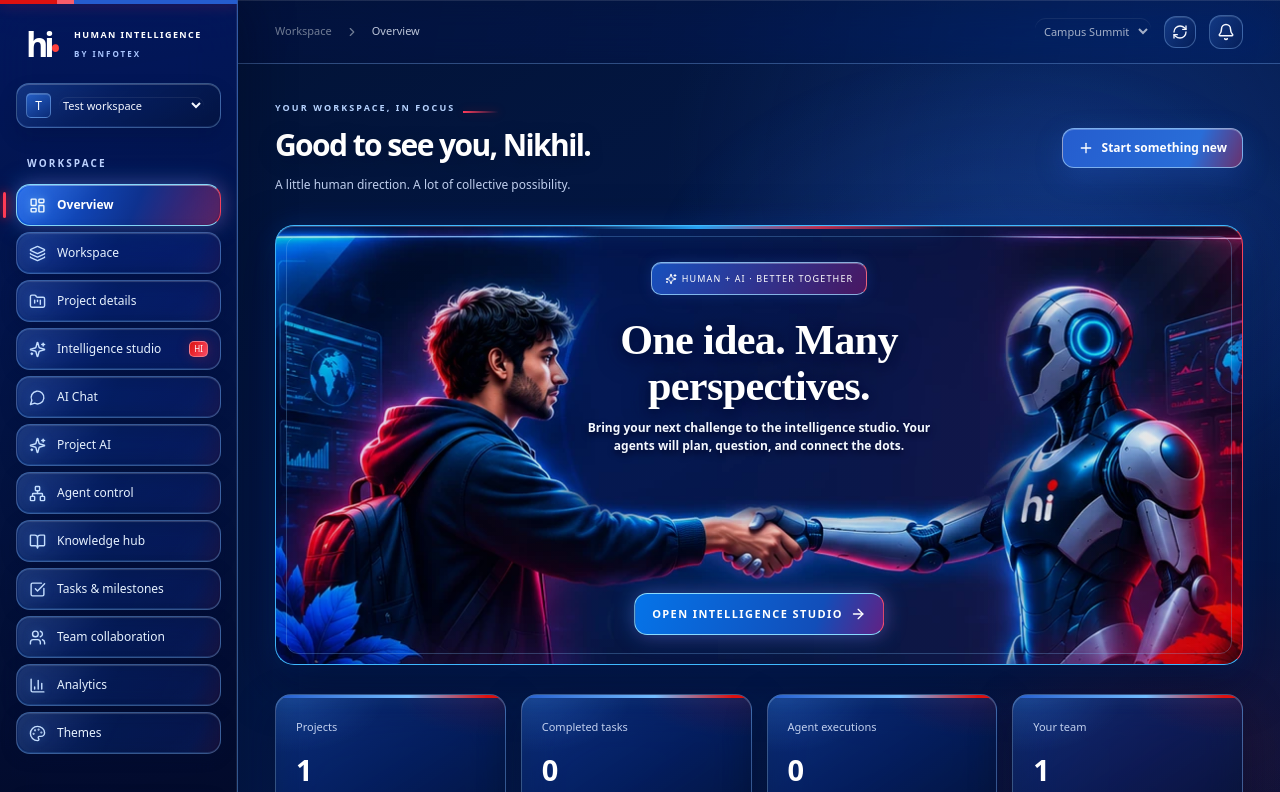
Test case: workspace UI with an explicit mocked API boundary › shows backend errors and keeps the request available for correction
Expected: the heading "Good to see you, Nikhil." is shown, [275, 126, 590, 162]
Expected: the dropdown named "Active project" shows "Campus Summit", [1035, 18, 1151, 45]
Step 1. Click the button "Intelligence studio HI" → (118, 349), box [16, 328, 221, 370]
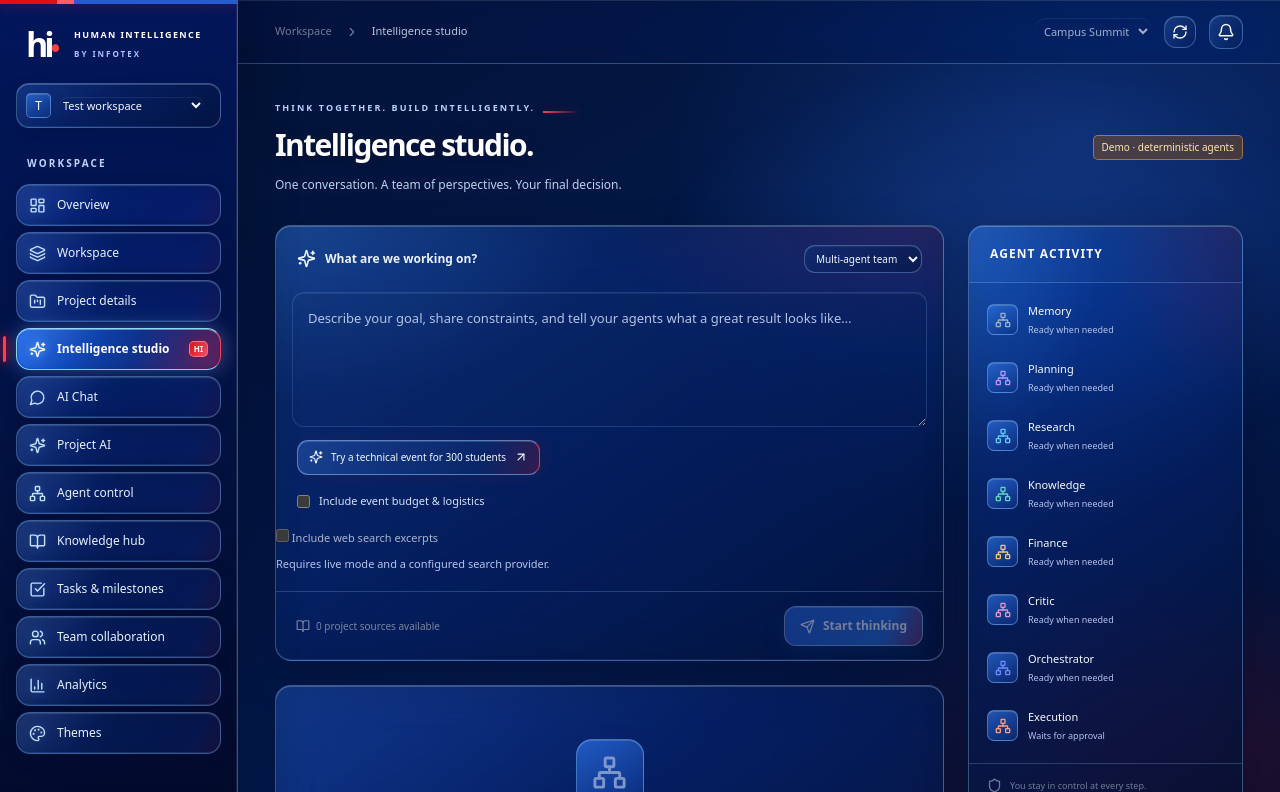
Step 2. Replace the text in the text box named "Your request" with "A test request" → (610, 359), box [292, 292, 927, 427]
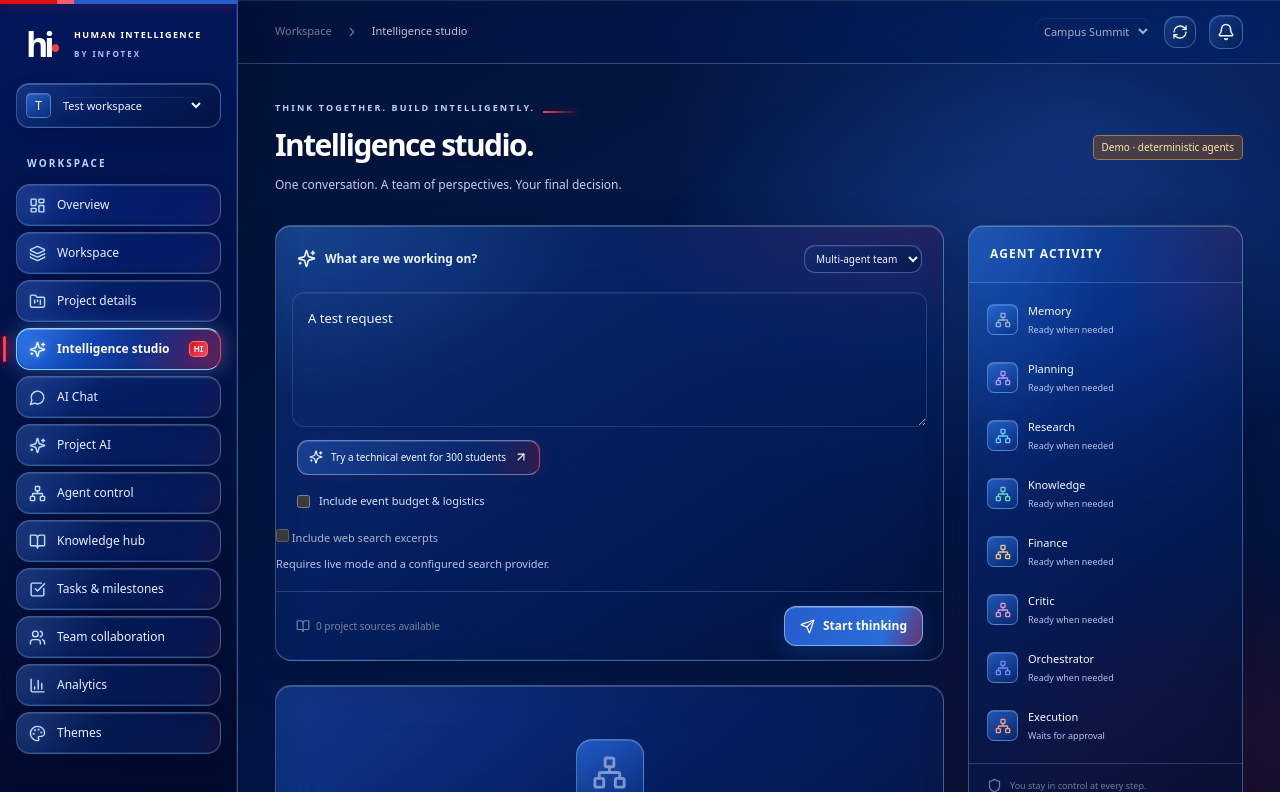
Step 3. Click the button "Start thinking" → (853, 626), box [784, 606, 923, 646]
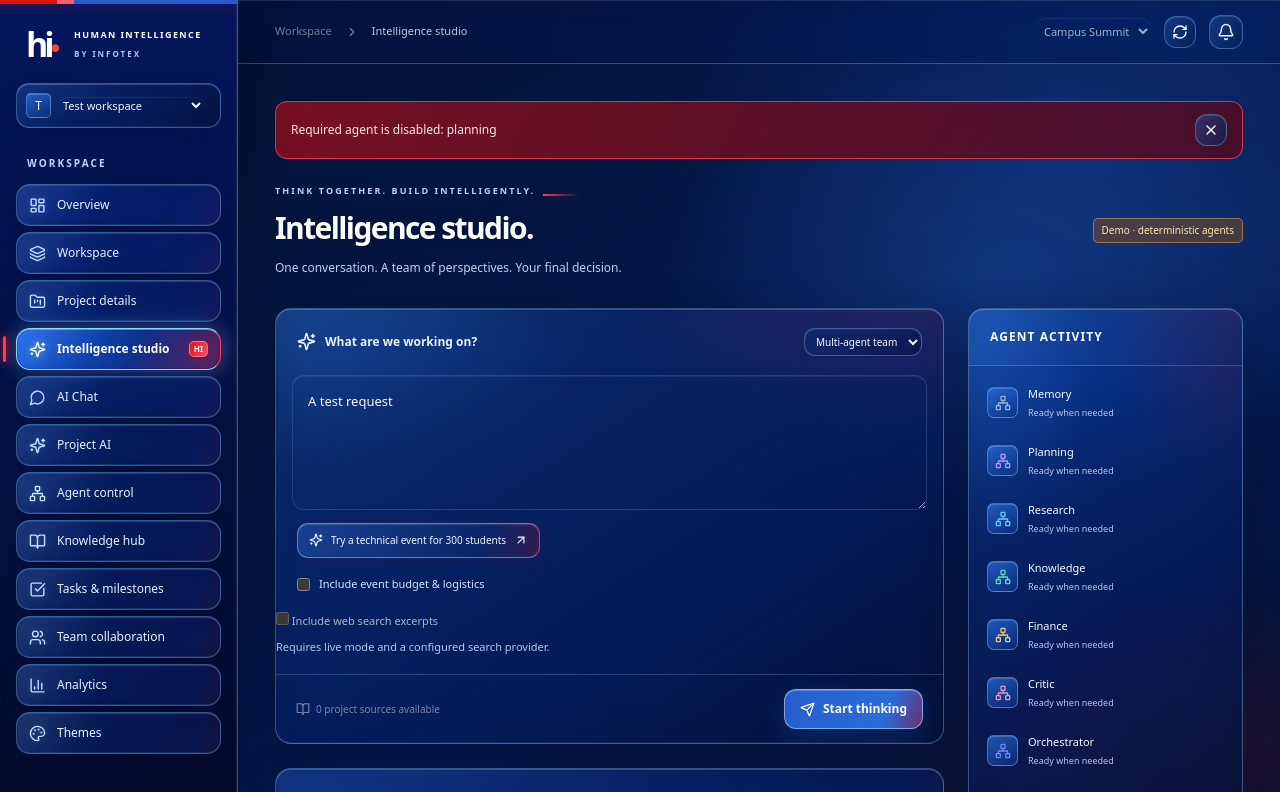
Expected: the message "Required agent is disabled: planning" is shown, [275, 101, 1243, 159]
